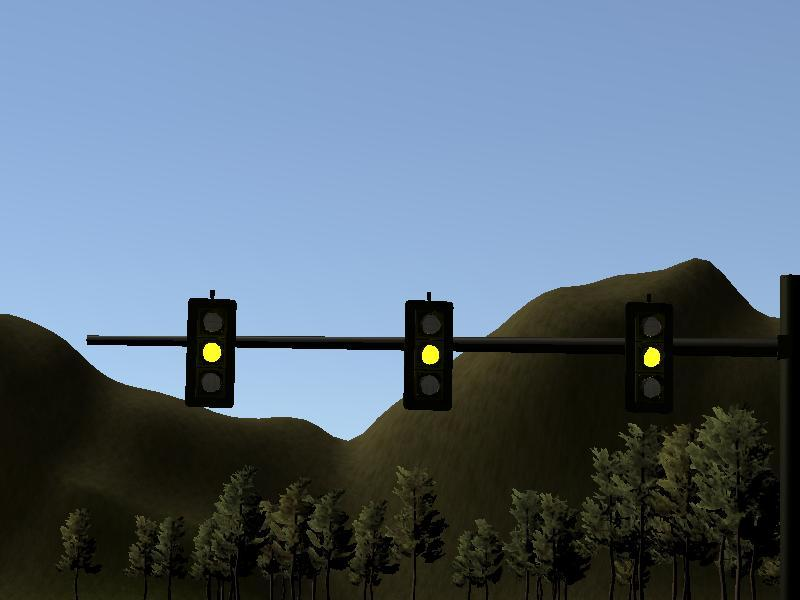Yellow: (625, 302, 675, 412), (186, 297, 235, 407), (403, 300, 452, 410)
